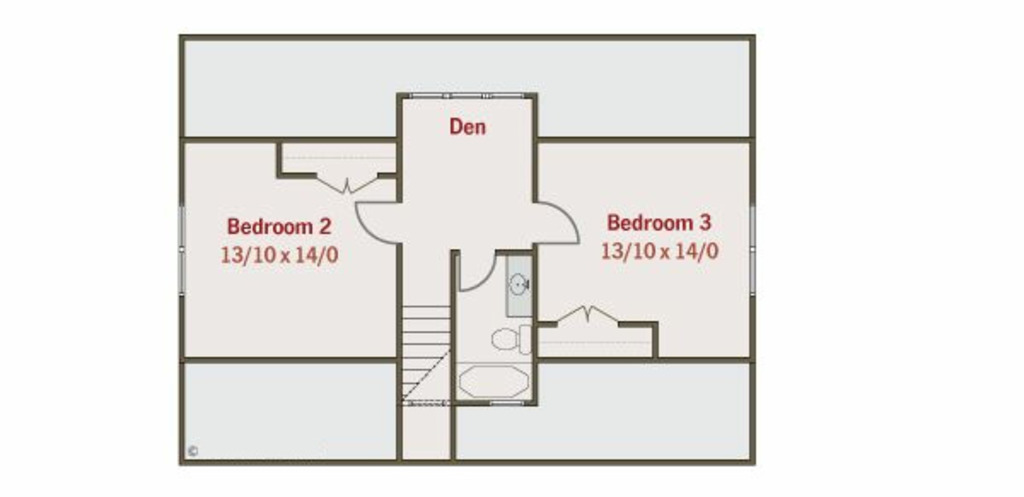door: (352, 194, 398, 244), (532, 199, 579, 243), (456, 249, 496, 294), (320, 174, 379, 197), (556, 304, 628, 322)
large_sink: (483, 319, 535, 359)
small_sink: (507, 254, 531, 310)
stairs: (400, 300, 448, 405)
tub: (457, 363, 534, 401)
window: (175, 206, 188, 297), (412, 92, 522, 100), (748, 205, 758, 292)
